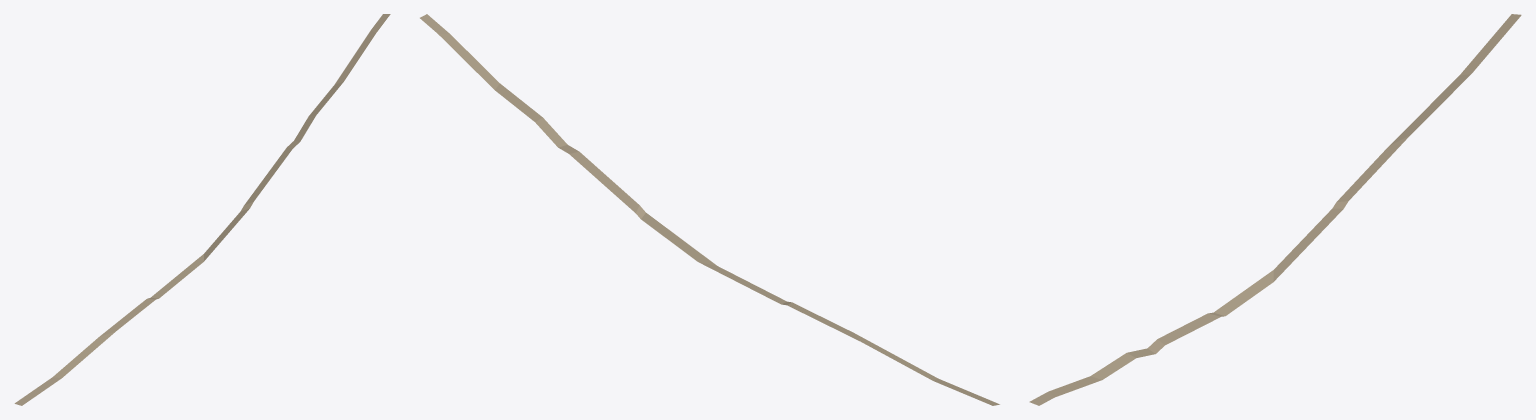
The model's file is farm_-4_-6_track.glb.
3 renders of one model, left to right at view 1: azimuth 90°, elevation 25°; view 2: azimuth 150°, elevation 25°; view 3: azimuth 270°, elevation 25°, orthographic. The views are drawn at different scales.
Visible parts, largest first — view 1: geometry_0; view 2: geometry_0; view 3: geometry_0.
Part boxes in pixels (x1,y1,x2,y2): geometry_0: (14,14,390,405); geometry_0: (420,14,999,405); geometry_0: (1029,14,1521,405).
Size of the model in its own units: 315 by 31.51 by 145.
